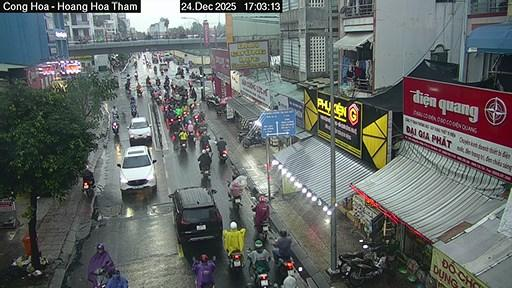motorbike: (336, 239, 376, 274), (348, 252, 384, 286), (227, 180, 243, 210), (195, 270, 214, 287), (243, 133, 265, 147), (92, 268, 108, 287), (278, 256, 294, 275), (230, 252, 243, 269), (205, 94, 220, 107), (253, 274, 269, 286), (259, 219, 268, 238), (82, 180, 92, 197), (236, 130, 249, 142), (218, 148, 227, 162), (199, 166, 210, 175), (112, 120, 118, 134), (192, 257, 199, 268), (201, 144, 210, 152), (124, 81, 130, 90), (179, 139, 185, 148), (131, 107, 137, 116), (208, 256, 214, 261), (137, 88, 141, 95), (153, 66, 156, 72)
